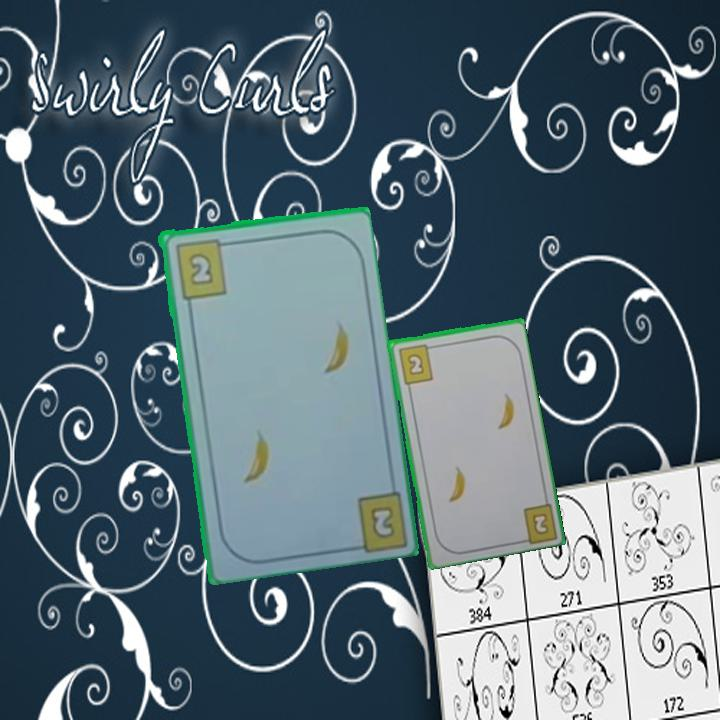2b: (171, 235, 232, 301), (395, 340, 436, 387), (366, 502, 398, 542), (528, 509, 552, 538)
